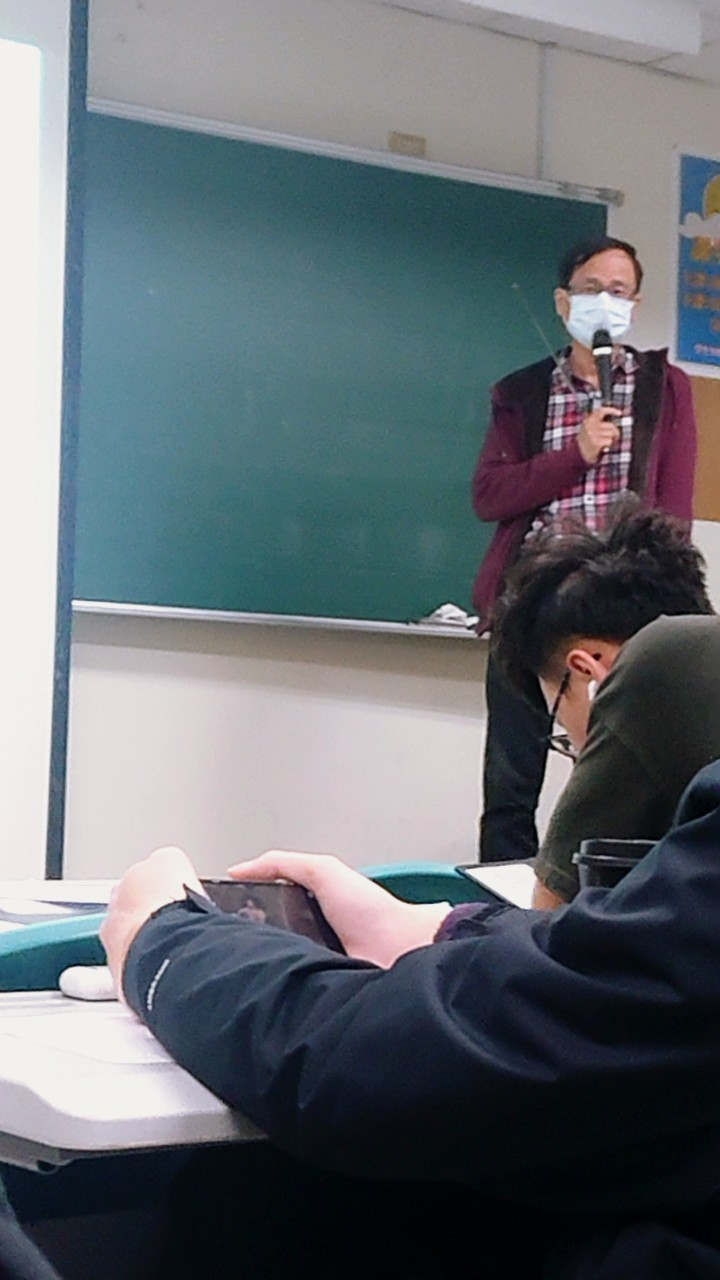people: (493, 243, 691, 808), (520, 533, 720, 851)
